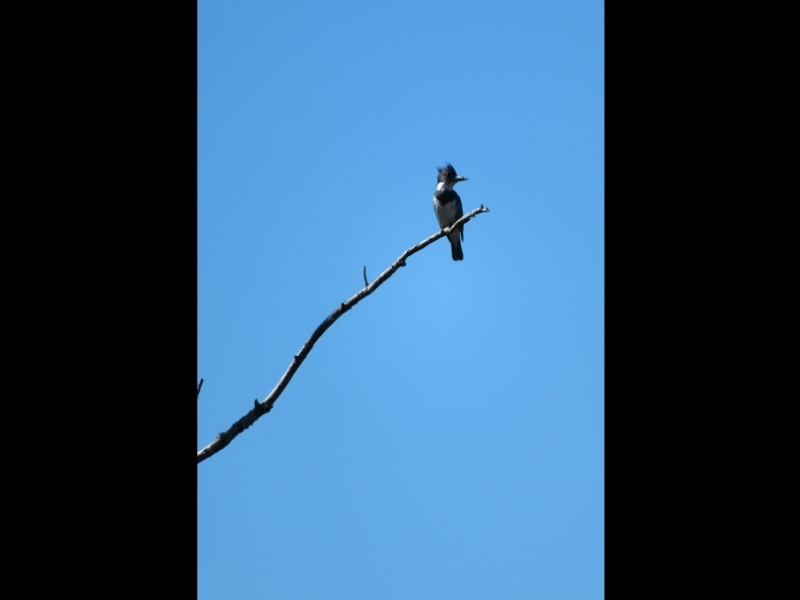kingfisher: (431, 163, 469, 262)
